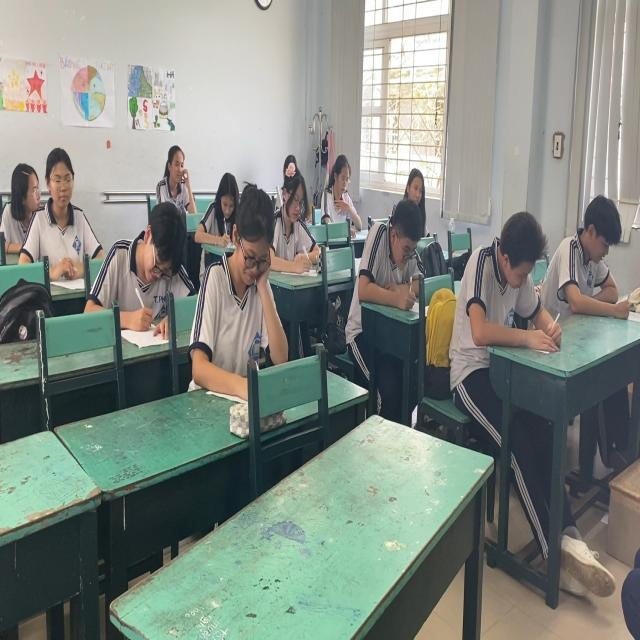cheating: (3, 162, 46, 213)
not_cheating: (215, 183, 291, 417), (460, 196, 549, 358), (559, 186, 639, 324), (122, 199, 194, 331), (42, 141, 114, 269), (266, 162, 316, 276), (364, 197, 416, 303), (317, 151, 355, 227), (198, 162, 231, 234), (161, 141, 194, 200), (404, 161, 429, 216)
